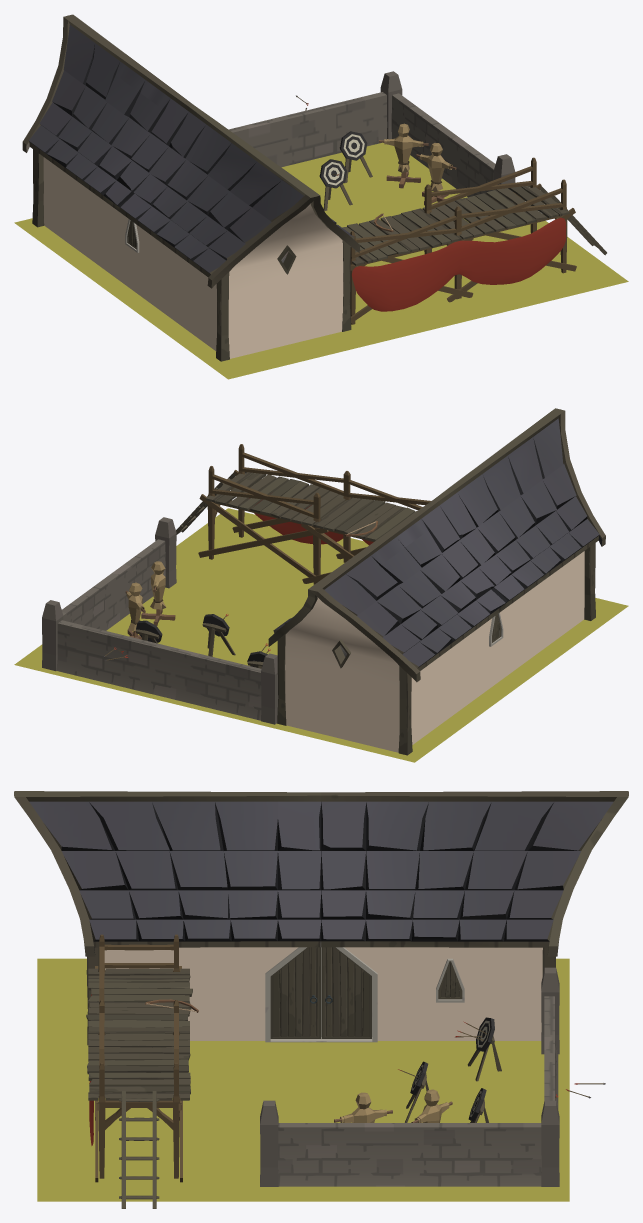
The model's file is Archery.fbx.
The picture shows the model from 3 angles, top to bottom: view 1: azimuth 30°, elevation 25°; view 2: azimuth 150°, elevation 25°; view 3: azimuth 270°, elevation 25°; orthographic projection. The views are drawn at different scales.
Parts seen in each view (by area): view 1: Archery academy, Floor, Range beams, Wall, Range cloth, Pillars.002, target B.002, target B.001, Target A 2, Target A 3; view 2: Archery academy, Floor, Wall, Range beams, Pillars.002, target B.001, Range cloth, target B.002, Target A 2; view 3: Archery academy, Floor, Wall, Range beams, Gate.001, Range Ladder, Target A 1, target B.001, target B.002, House 2.002, Pillars.002.
Part boxes in pixels (<box>): Archery academy: <box>22,14,359,358</box>; Floor: <box>14,142,628,379</box>; Range beams: <box>324,157,576,324</box>; Wall: <box>228,71,515,206</box>; Range cloth: <box>352,217,566,311</box>; Pillars.002: <box>32,149,351,361</box>; target B.002: <box>379,123,428,188</box>; target B.001: <box>416,143,456,205</box>; Target A 2: <box>319,159,352,210</box>; Target A 3: <box>339,131,372,183</box>; Archery academy: <box>268,408,605,752</box>; Floor: <box>14,508,628,762</box>; Wall: <box>42,517,278,724</box>; Range beams: <box>198,444,430,584</box>; Pillars.002: <box>277,543,595,755</box>; target B.001: <box>141,561,175,625</box>; Range cloth: <box>249,498,373,545</box>; target B.002: <box>125,582,145,639</box>; Target A 2: <box>202,614,235,656</box>; Archery academy: <box>14,791,628,1042</box>; Floor: <box>37,958,569,1201</box>; Wall: <box>260,967,559,1186</box>; Range beams: <box>86,934,192,1182</box>; Gate.001: <box>270,947,371,1038</box>; Range Ladder: <box>119,1091,159,1208</box>; Target A 1: <box>467,1017,501,1081</box>; target B.001: <box>334,1092,392,1122</box>; target B.002: <box>411,1089,452,1122</box>; House 2.002: <box>438,961,462,999</box>; Pillars.002: <box>86,947,555,1045</box>.
Bounding box in the file's own units: 2832 × 1124 × 2939.
